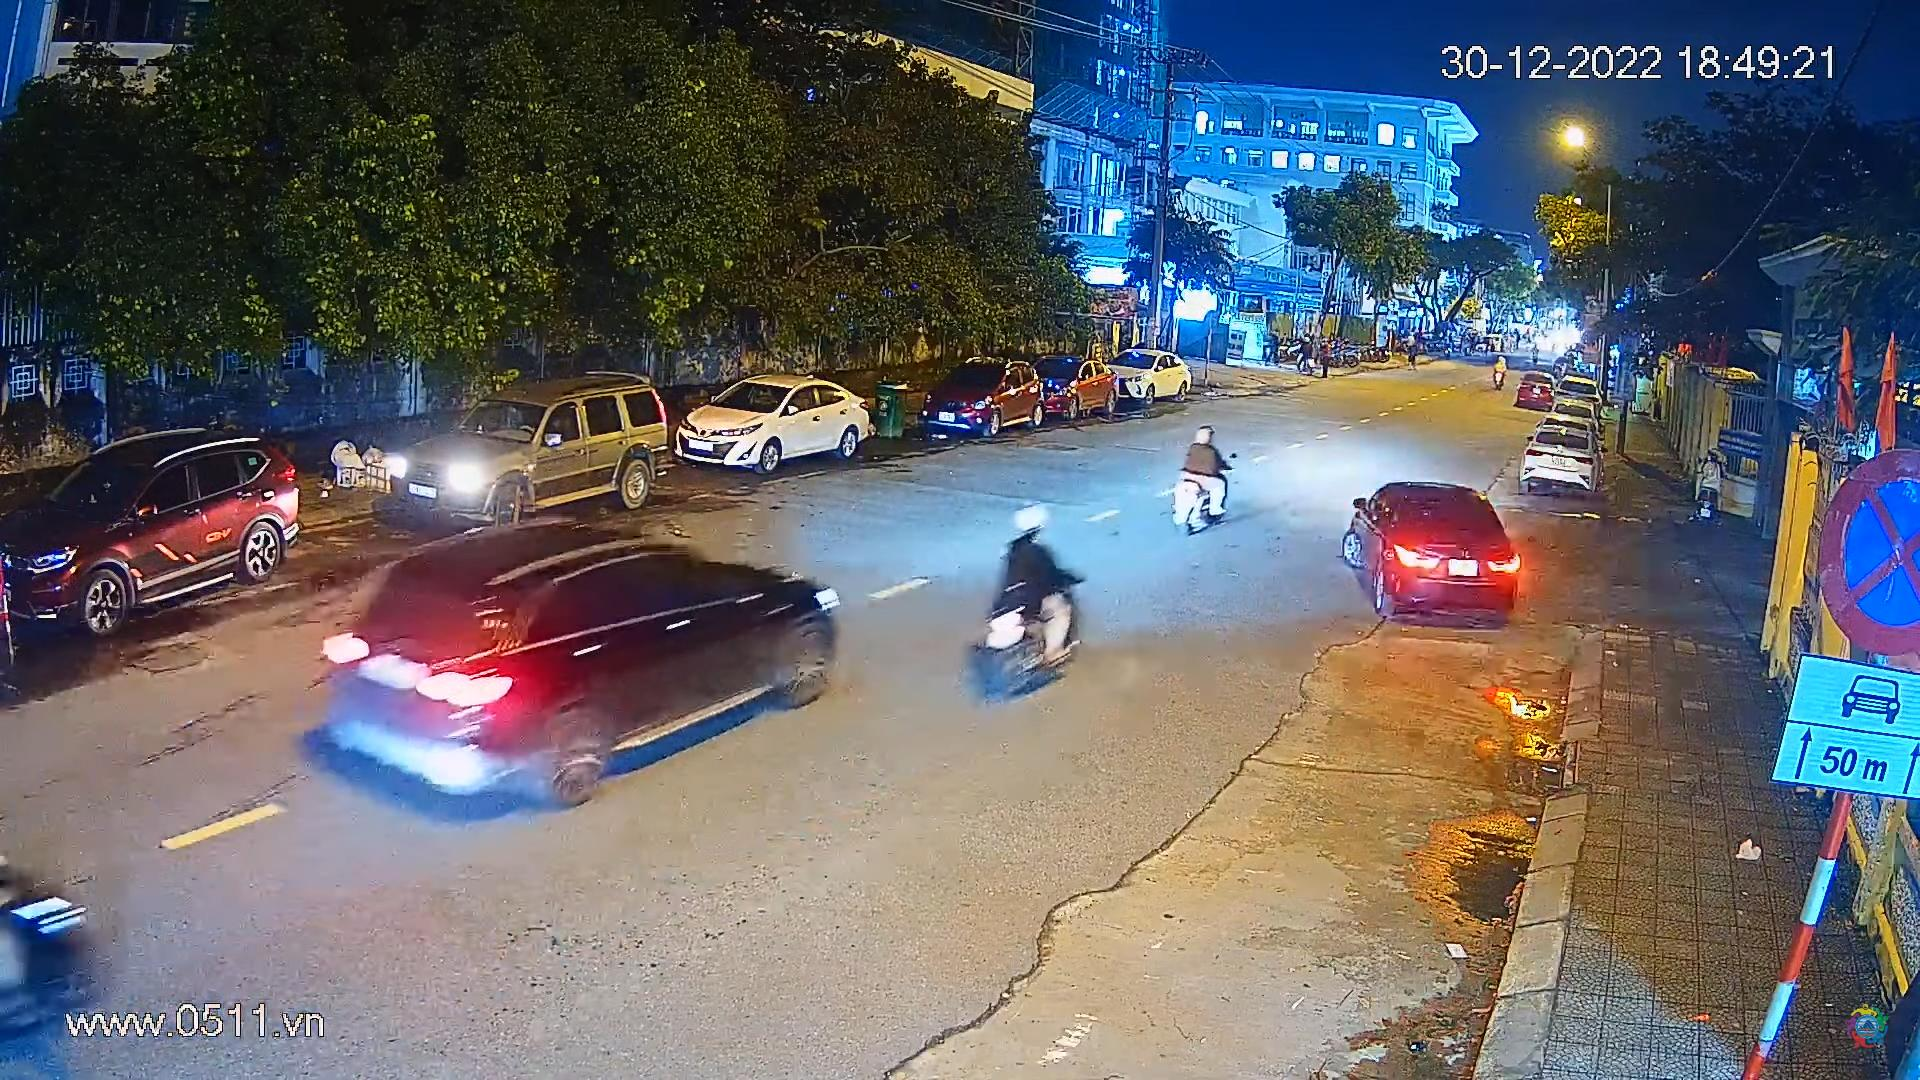car: (323, 520, 858, 828), (0, 421, 298, 641), (355, 365, 675, 537), (1336, 473, 1531, 628), (674, 367, 872, 479), (913, 356, 1043, 442), (1518, 419, 1598, 501), (1105, 345, 1193, 407), (1040, 351, 1118, 421), (1513, 369, 1552, 410), (1556, 376, 1602, 409)
motorcycle: (960, 496, 1110, 705), (1166, 426, 1237, 534)
